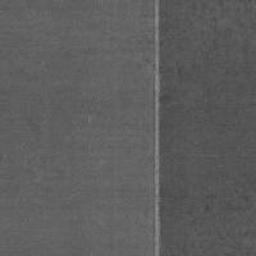Welding line: (152, 0, 165, 255)
